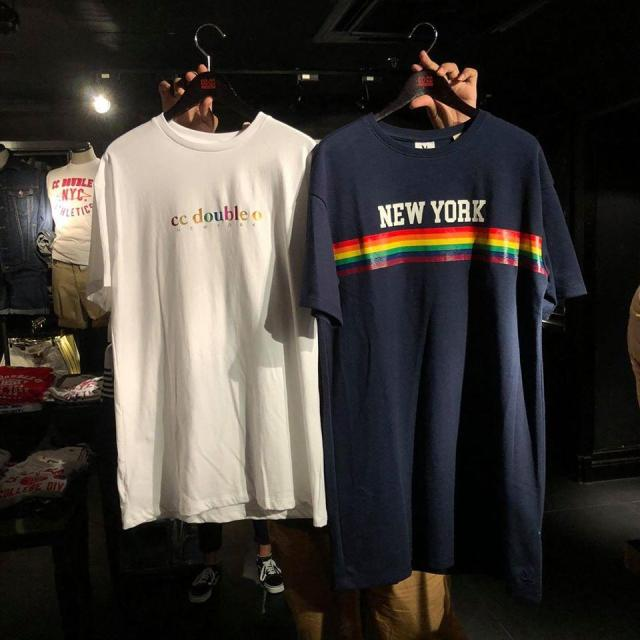Tshirt: (278, 91, 594, 594), (86, 104, 348, 534)
